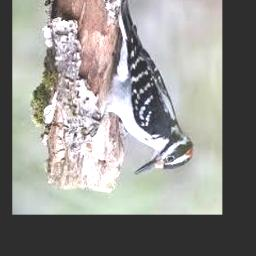Woodpecker: (105, 0, 193, 175)
